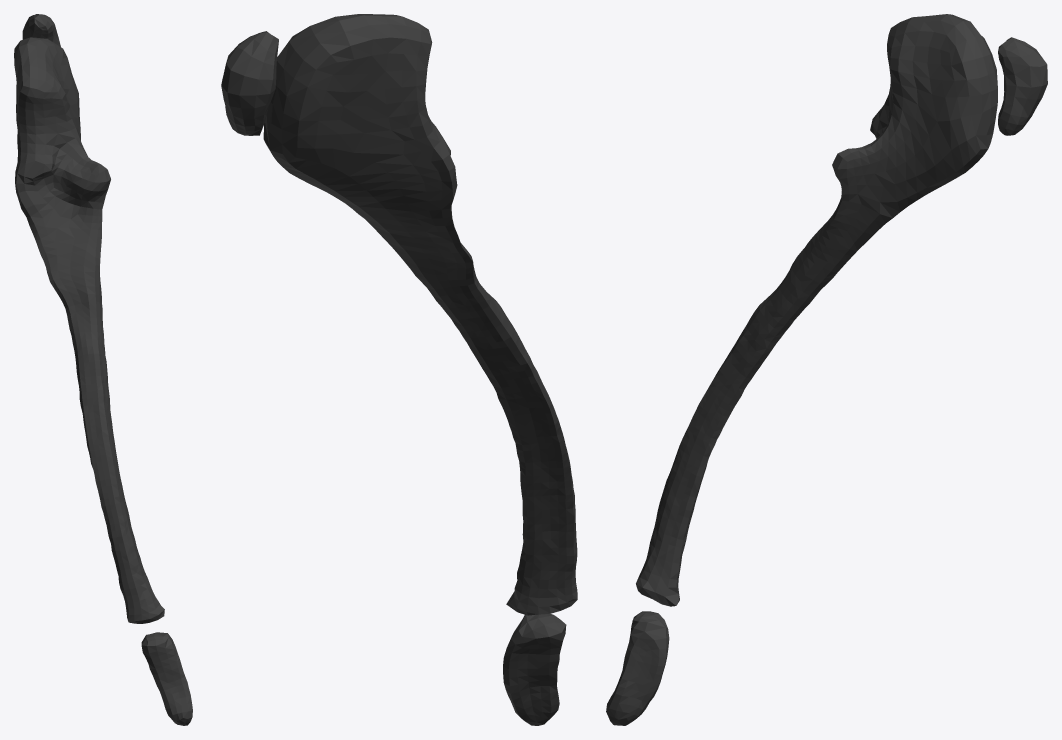
The model's file is Ulna_bone_Ulna_bone.glb.
3 views of the same model, side by side, from view 1: azimuth 30°, elevation 25°; view 2: azimuth 150°, elevation 25°; view 3: azimuth 270°, elevation 25° (orthographic). The views are drawn at different scales.
Visible parts, largest first — view 1: Ulna_bone_Ulna_bone; view 2: Ulna_bone_Ulna_bone; view 3: Ulna_bone_Ulna_bone.
Part boxes in pixels (x1,y1,x2,y2): Ulna_bone_Ulna_bone: (14,14,192,725); Ulna_bone_Ulna_bone: (221,14,577,725); Ulna_bone_Ulna_bone: (606,14,1047,725).
Bounding box in the file's own units: 0.0944 × 0.5222 × 0.2985.
Materials: 1 (1 with a texture image).
